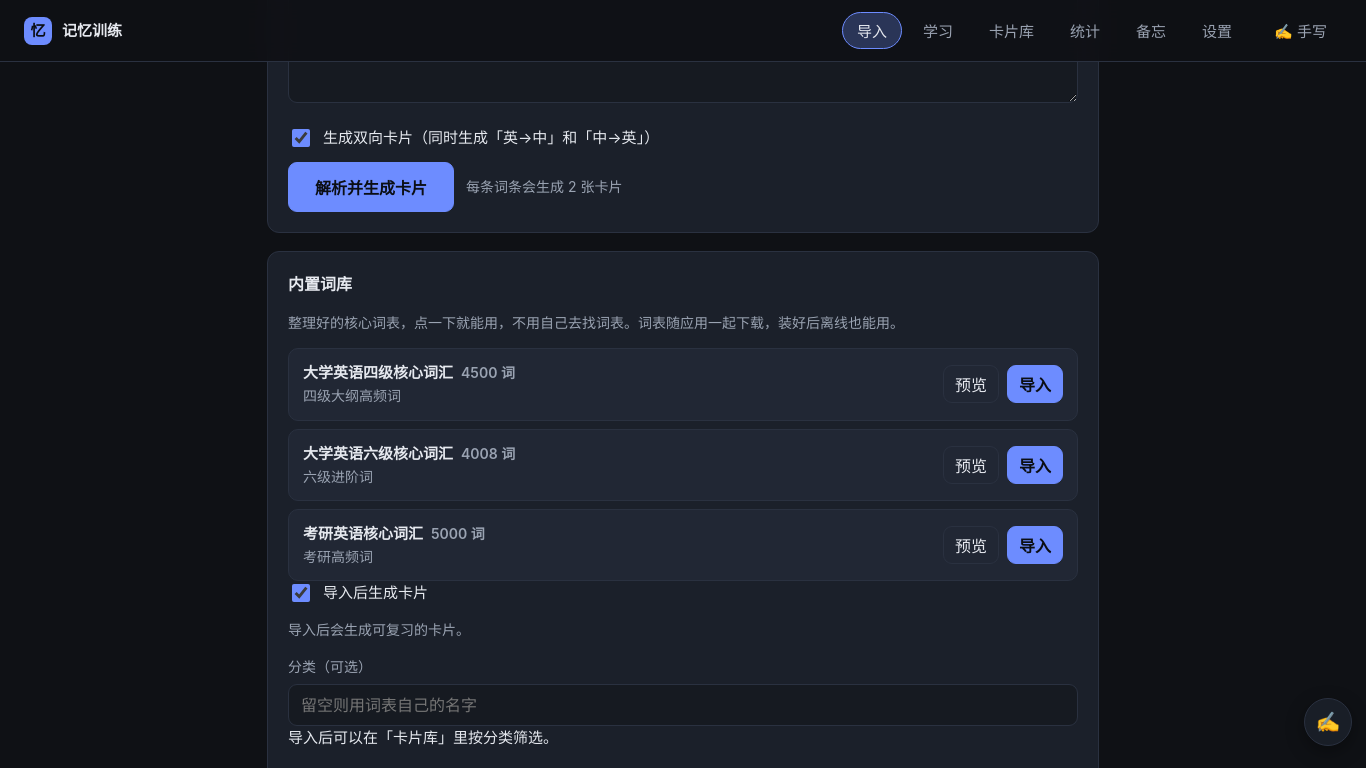
Scenario: 内置词库面板 › 列出三份词表并能预览
(page scrolled)
Expected: the heading "内置词库" is shown, [288, 274, 352, 294]
Expected: the text "大学英语四级核心词汇" is shown, [303, 363, 453, 382]
// 预览会读出词表并显示前几个词条。
Click the button "预览" in the row of "大学英语四级核心词汇": (971, 384) [943, 366, 999, 404]
(page scrolled)
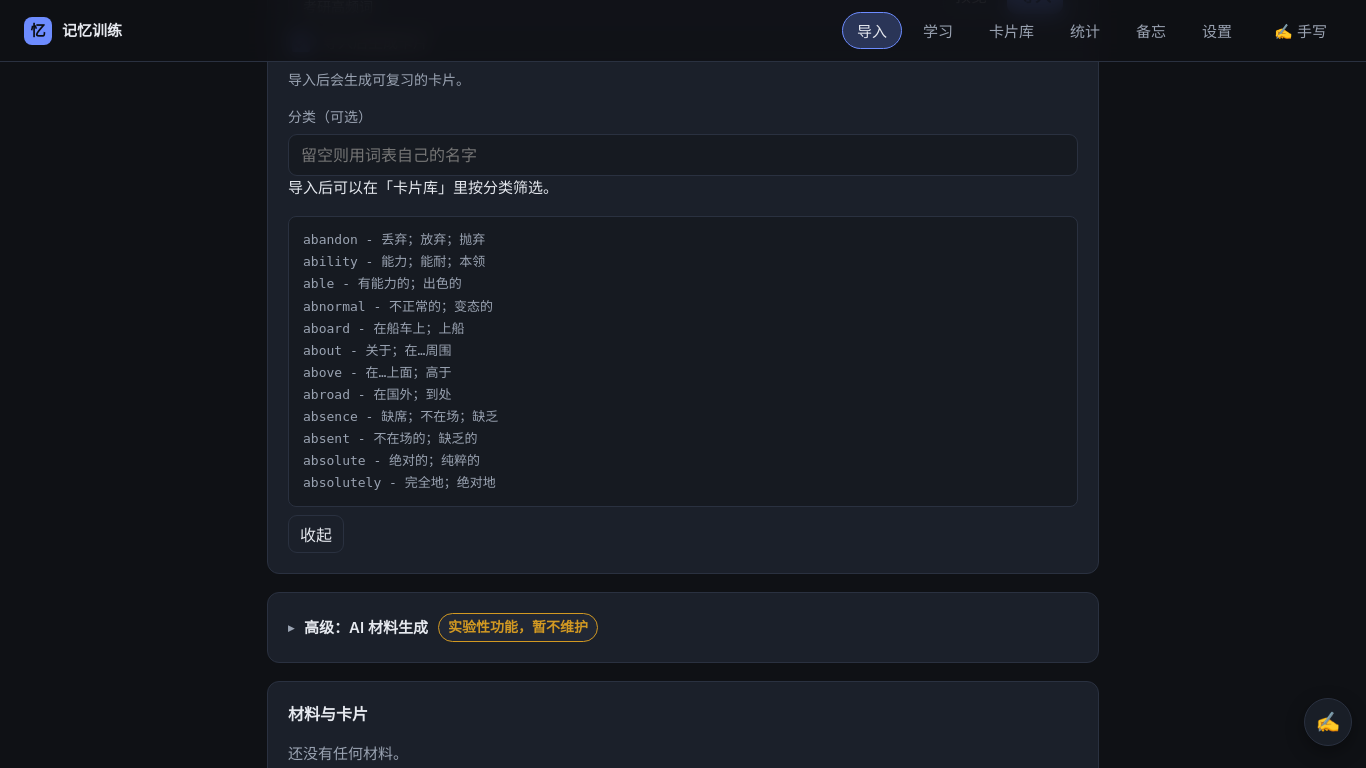
Expected: the element with class "builtin-preview" is shown, [288, 216, 1078, 553]
Expected: the element with class "builtin-preview" shows "-", [303, 232, 498, 490]
